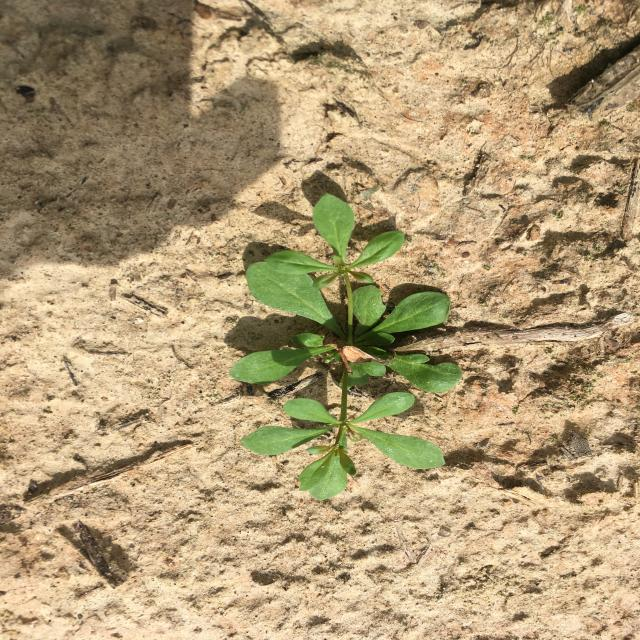Carpetweed: (229, 192, 463, 500)
